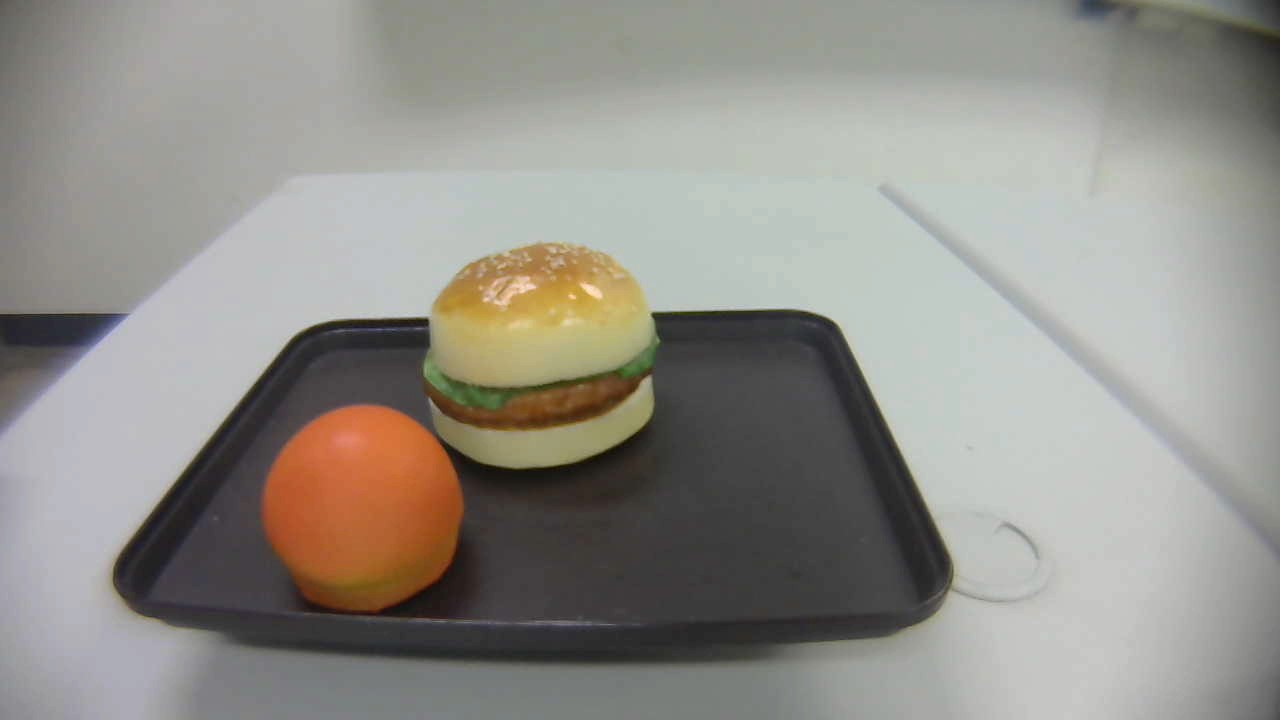bun: (262, 404, 465, 612)
hamburger: (424, 238, 662, 472)
